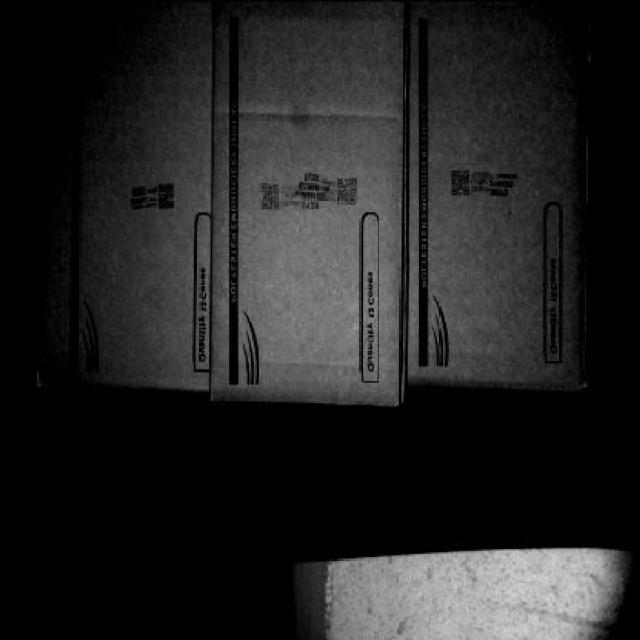cardboxes: (208, 0, 404, 403), (408, 4, 590, 382), (38, 0, 205, 391)
